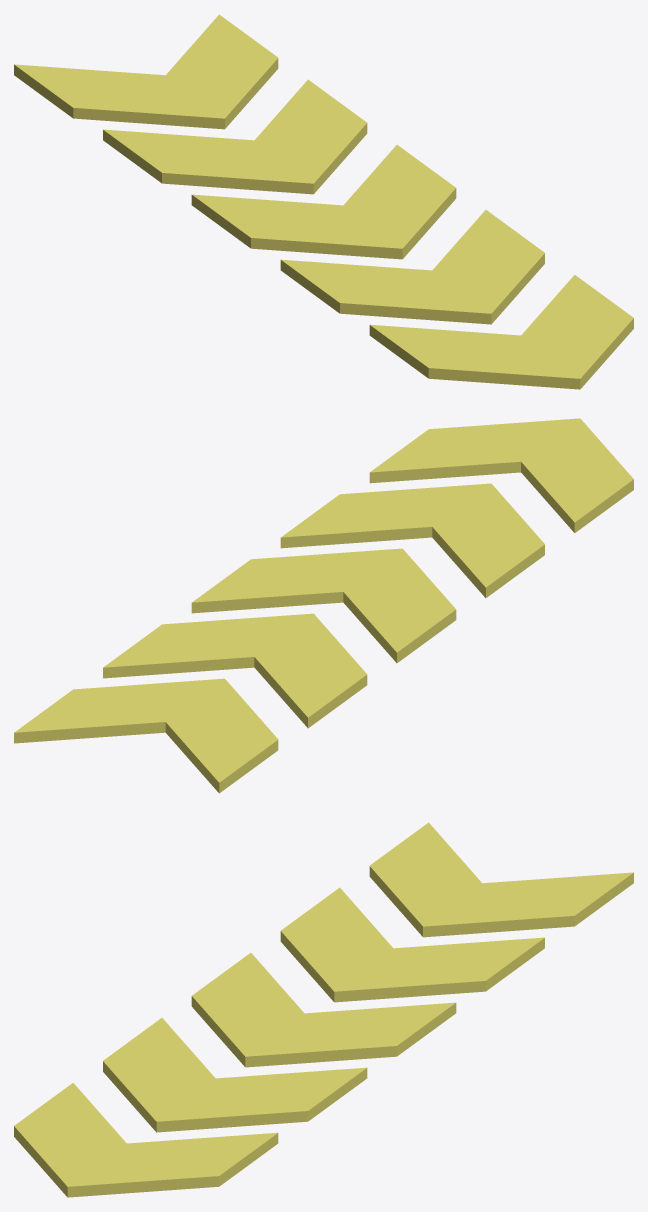
3 renders of one model, top to bottom at view 1: azimuth 30°, elevation 25°; view 2: azimuth 150°, elevation 25°; view 3: azimuth 330°, elevation 25°, orthographic.
Visible parts, largest first — view 1: group9_EF1_1; view 2: group9_EF1_1; view 3: group9_EF1_1.
Boxes of the visible parts, bbox=[...] form: group9_EF1_1: bbox=[14, 14, 633, 389]; group9_EF1_1: bbox=[14, 418, 633, 793]; group9_EF1_1: bbox=[14, 822, 633, 1197].
Size of the model in its own units: 2 by 0.1 by 7.83.
